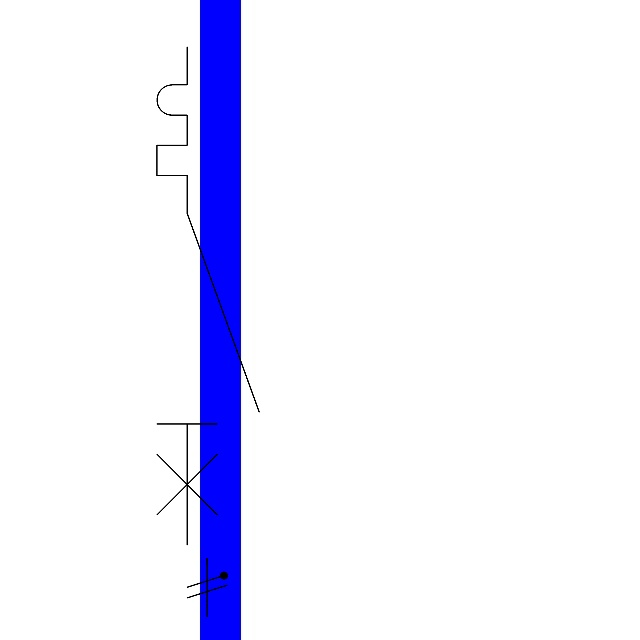interruptor_termomagnetico: (144, 34, 272, 558)
